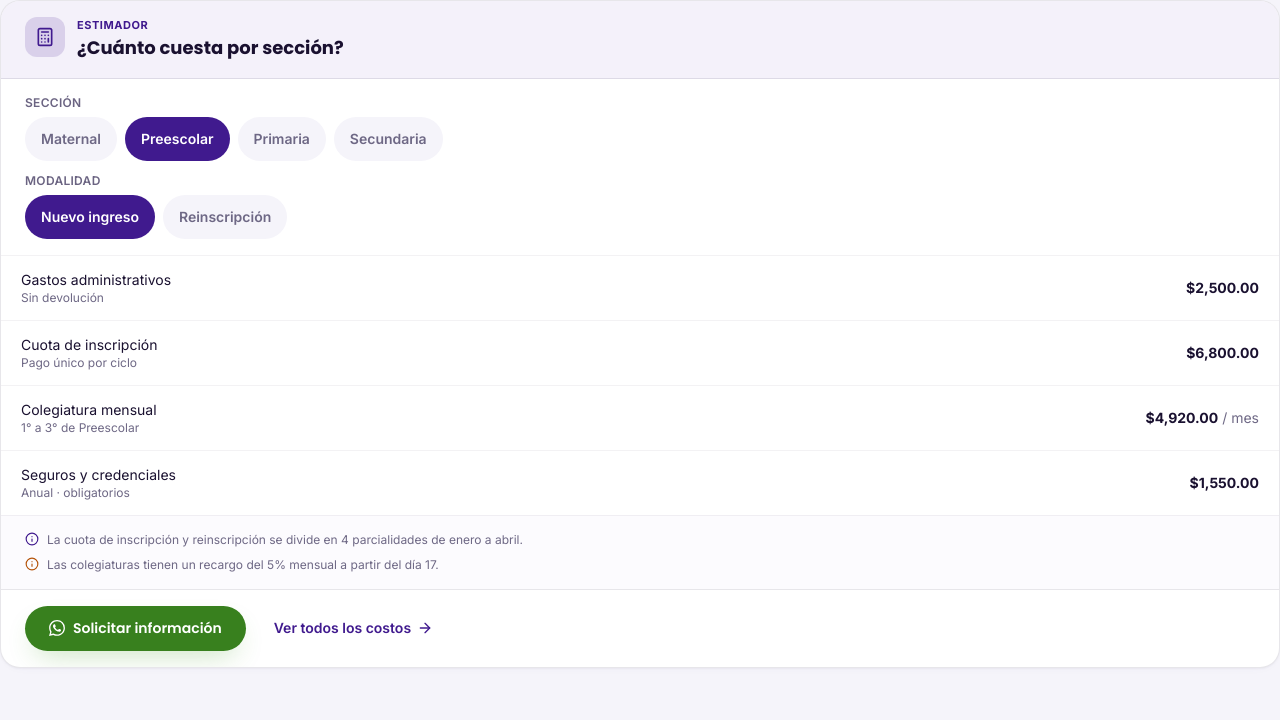
CostEstimator › switching to reinscripción changes the figures
Check: the text "$6,800.00" is shown, box [1186,342,1259,362]
Click the button "Reinscripción".
click(225, 216)  # box [163,194,287,238]
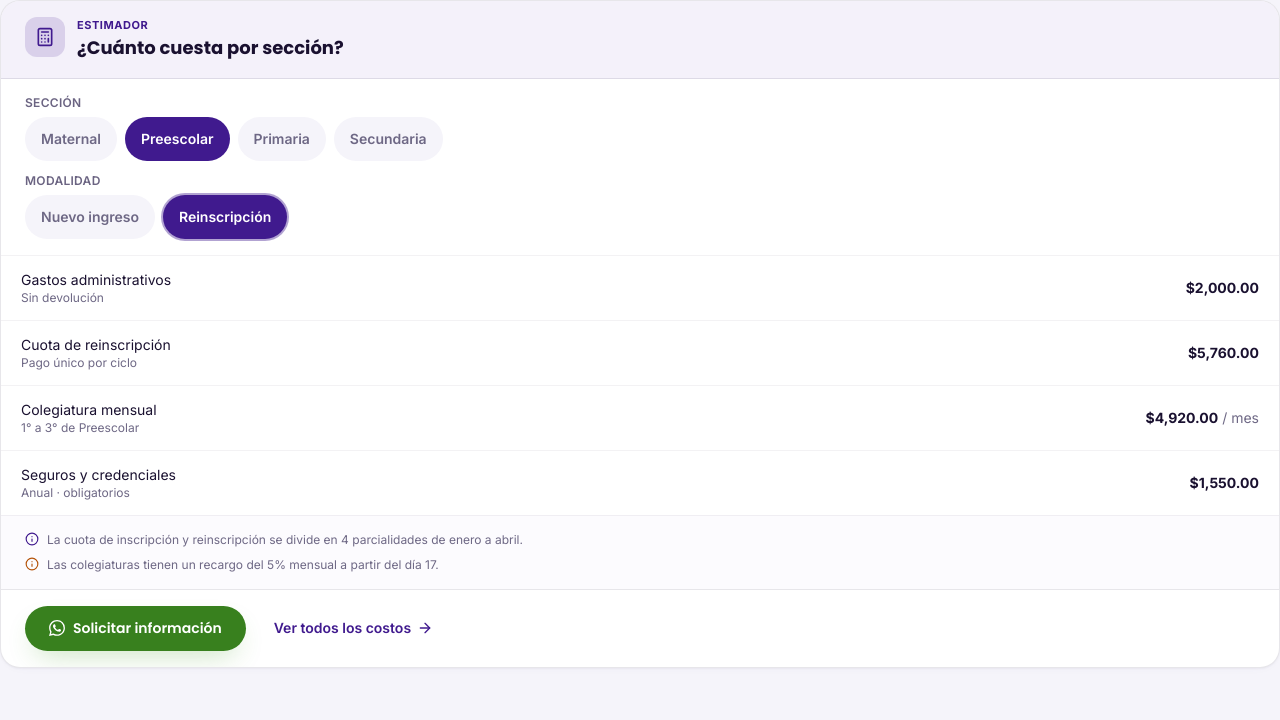
Check: the text "$5,760.00" is shown, box [1188,342,1259,362]
Check: the text "$2,000.00" is shown, box [1186,278,1259,298]
Check: the text "Cuota de reinscripción" is shown, box [21,336,171,352]
